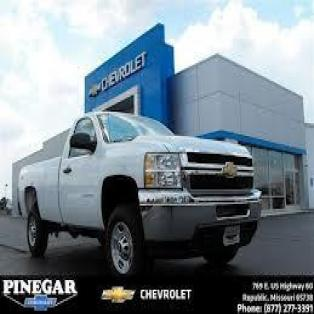Auto: (15, 107, 264, 285)
